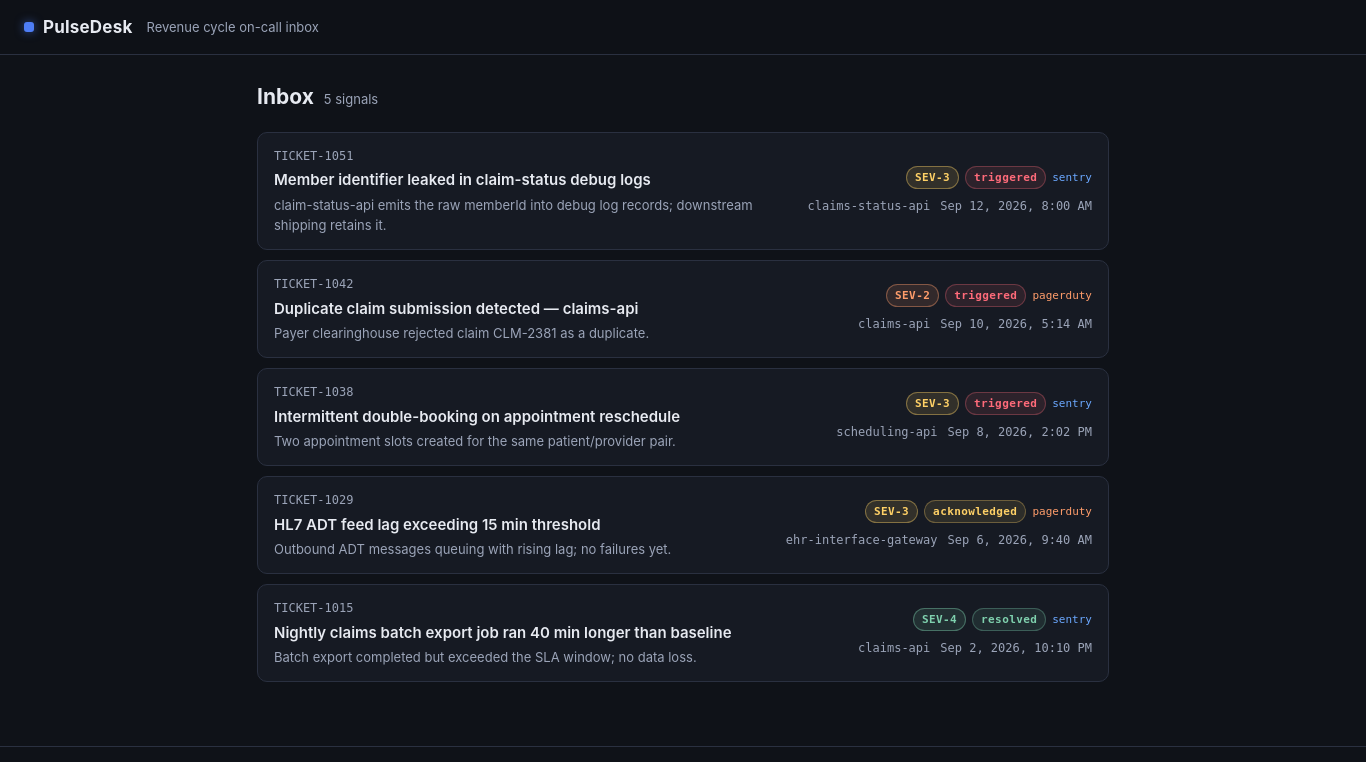
Test: detail view › shows the blocked gate message when the workspace is not runnable
Click the text "Duplicate claim submission detected — claims-api": (462, 308) [274,297,649,320]
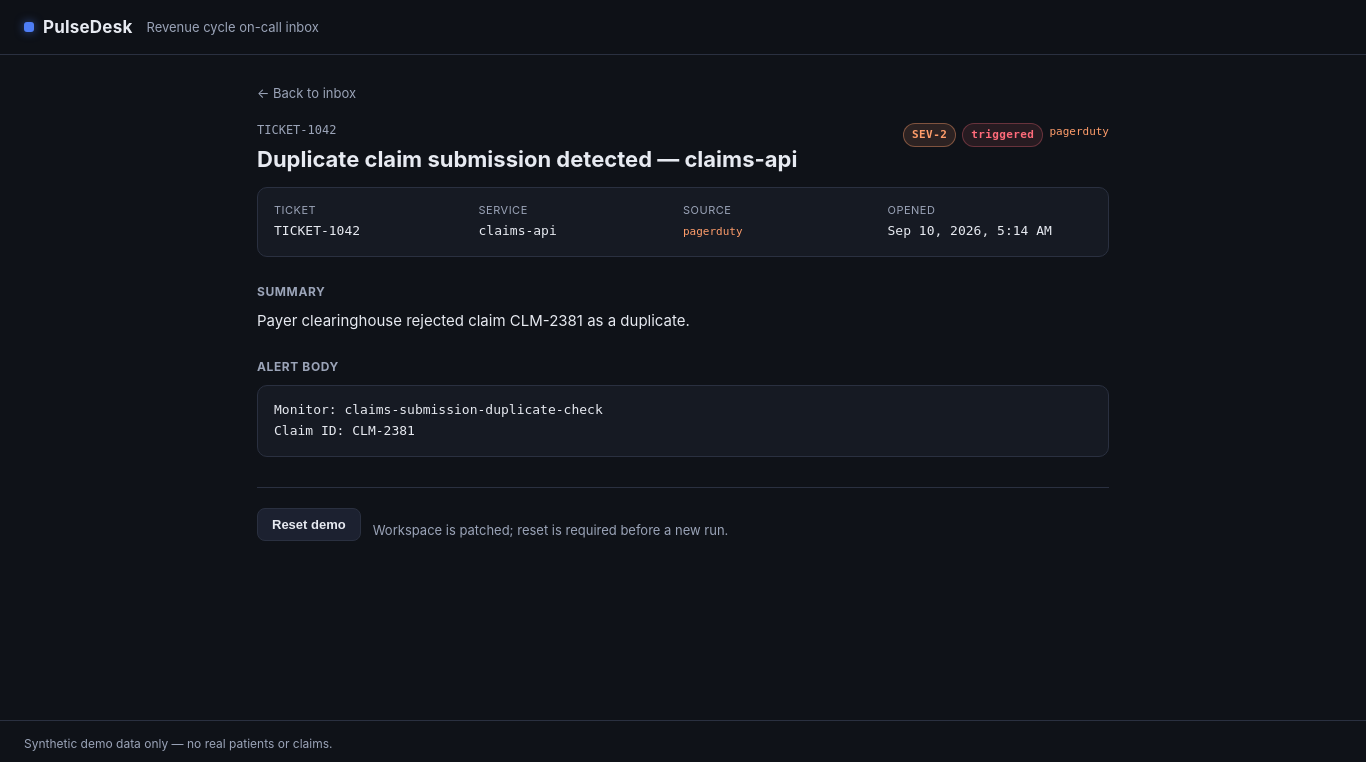
expect the text "Workspace is patched; reset is required before a new run." is shown: met, box [373,520,728,540]
